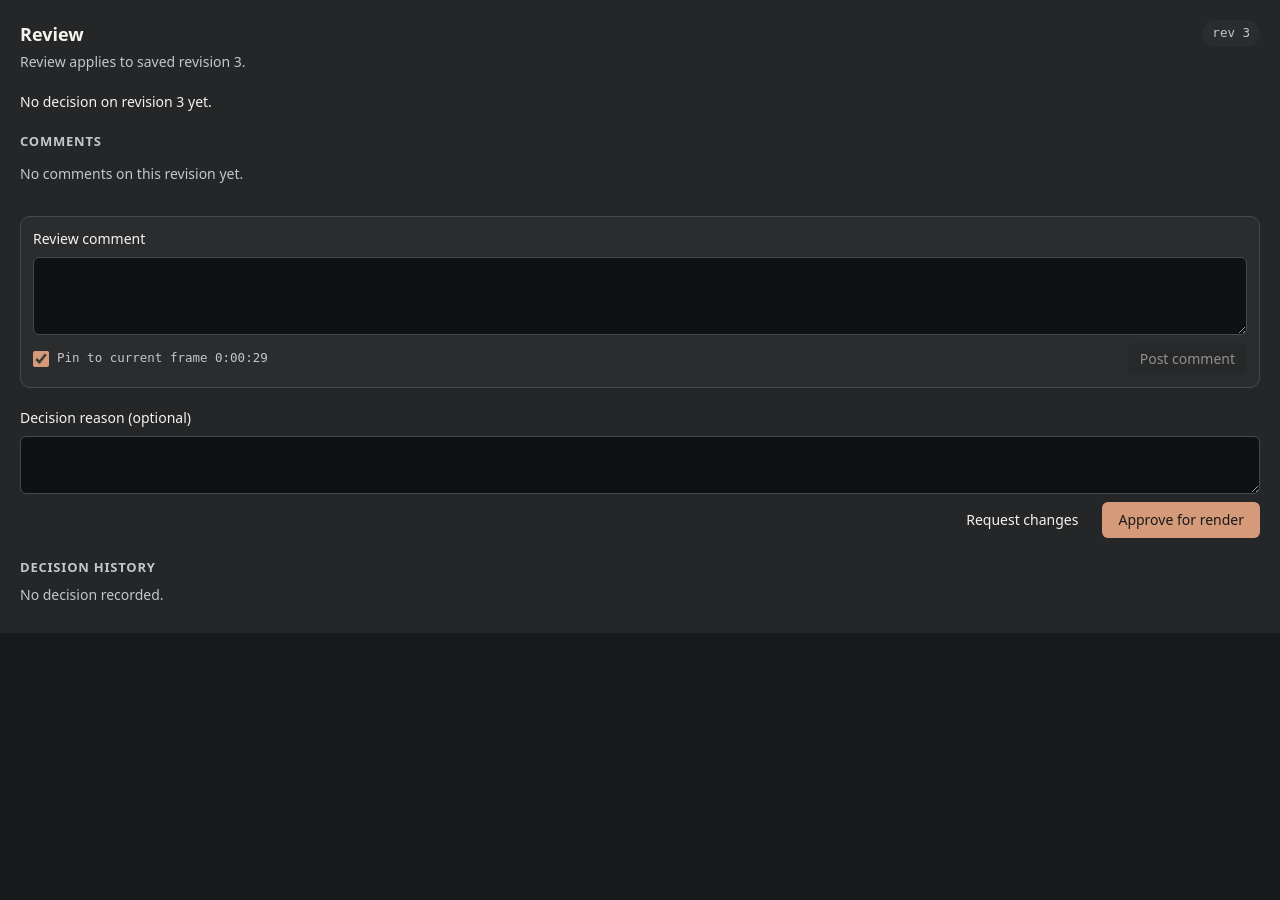
Test: posts a comment at the preview's current frame against the saved revision
expect the text "Review applies to saved revision 3." is shown: met, box [20, 52, 246, 72]
Type "Adjust opening" into the text box labelled "Review comment" at {"x": 640, "y": 296}, box [33, 256, 1247, 334]
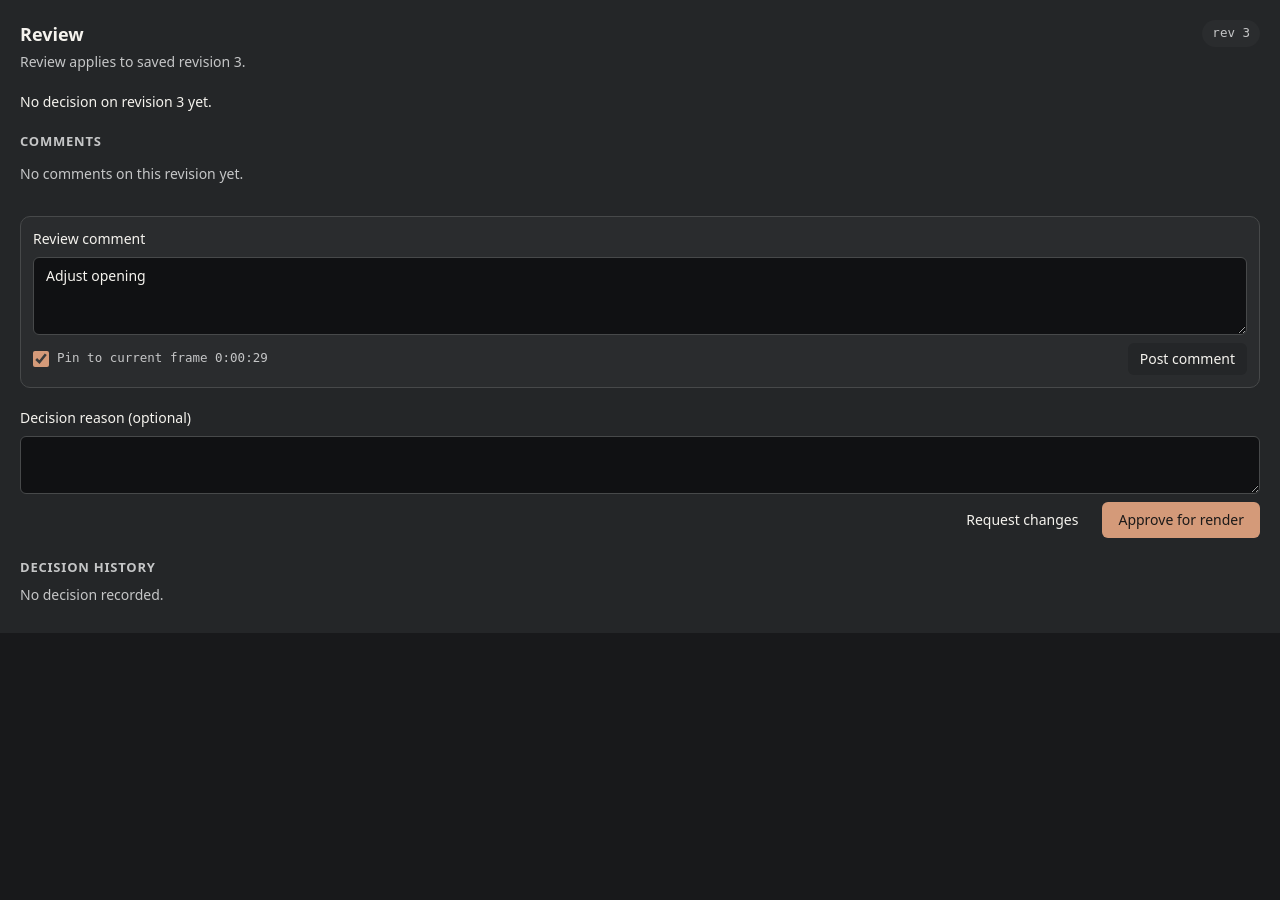
Click the button "Post comment" at {"x": 1187, "y": 358}, box [1128, 342, 1247, 374]
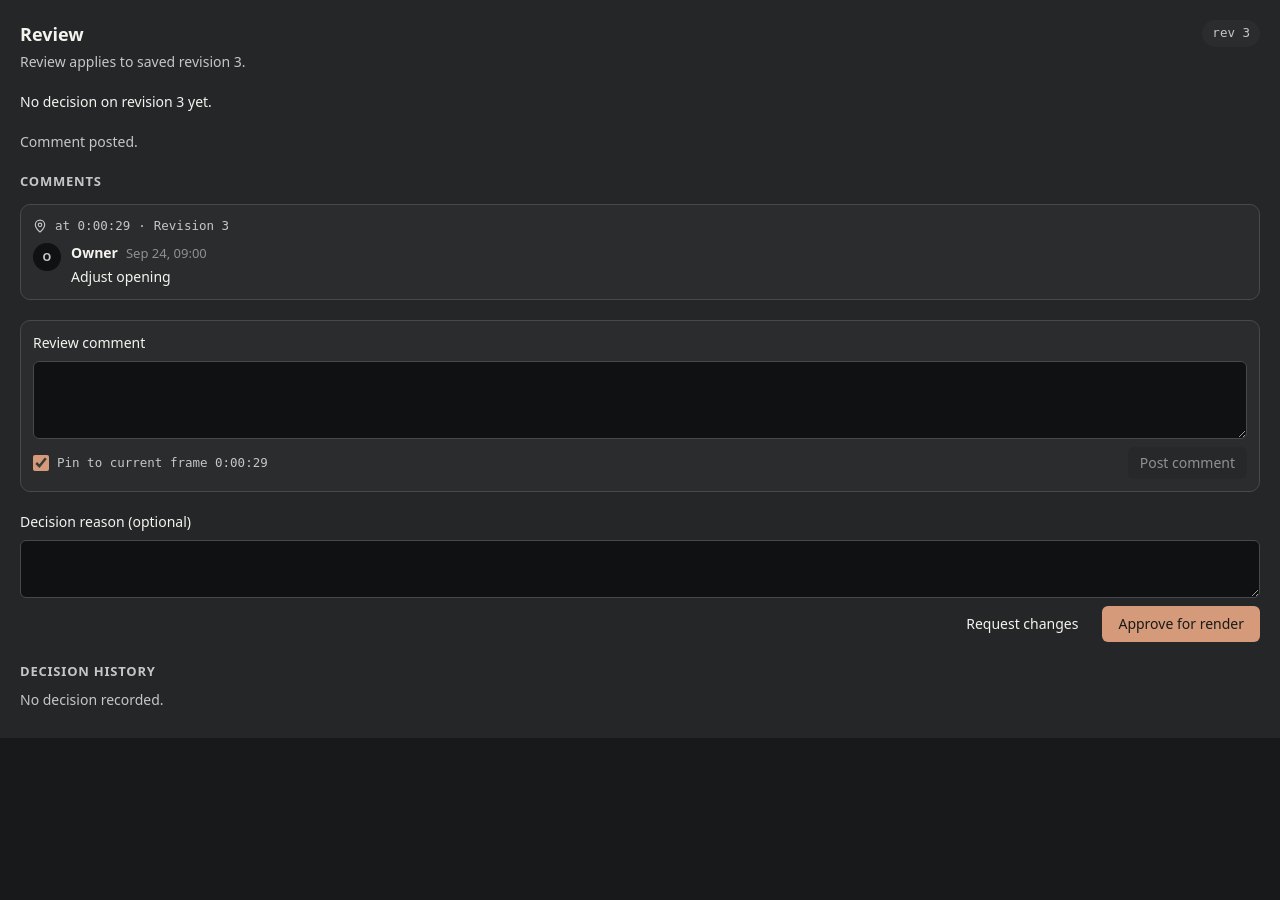
expect the text "Comment posted." is shown: met, box [20, 132, 138, 151]
expect the text "Adjust opening" is shown: met, box [71, 267, 171, 286]
